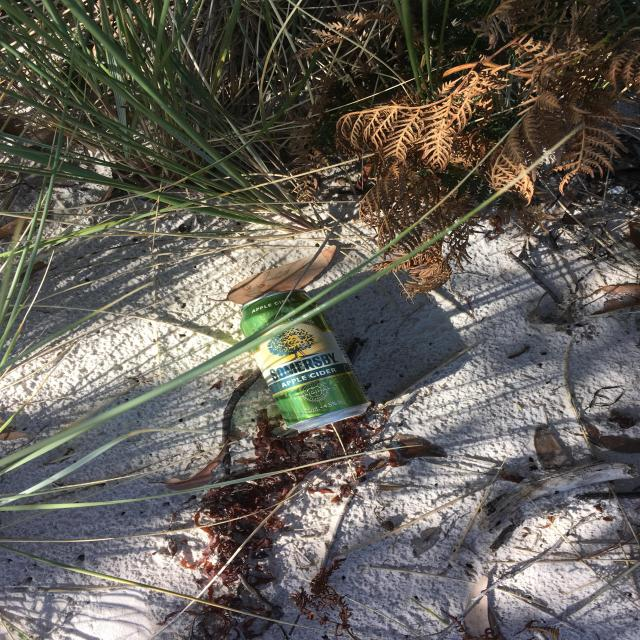litter: (386, 202, 575, 300), (387, 270, 394, 282)
